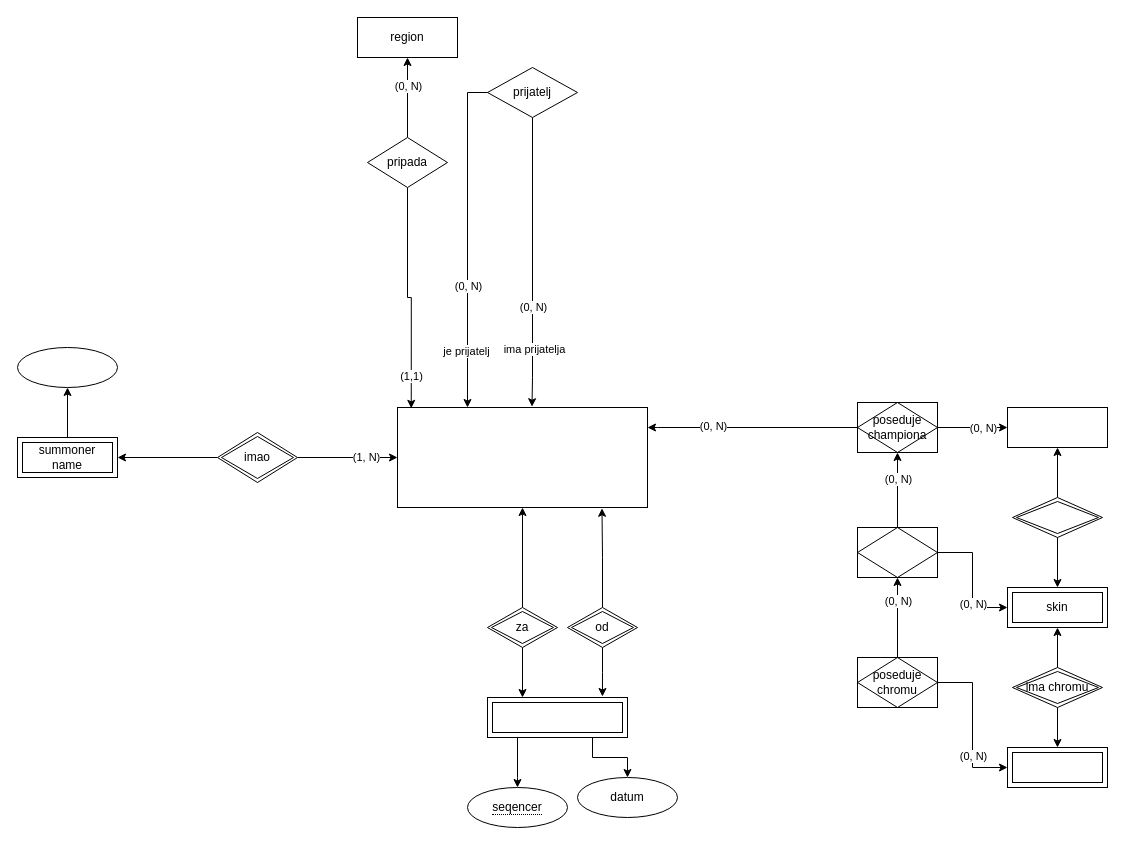
Image size: 1125x845. Some labels were removed from this diagram. Each missing label, with the box of its shape:
champion: (1006, 406, 1108, 448)
chroma: (1006, 746, 1108, 788)
datum pocetka: (16, 346, 118, 388)
ima skin: (1012, 496, 1102, 538)
Nalog: (396, 406, 648, 508)
poruka: (486, 696, 628, 738)
poseduje skin: (856, 526, 938, 578)
